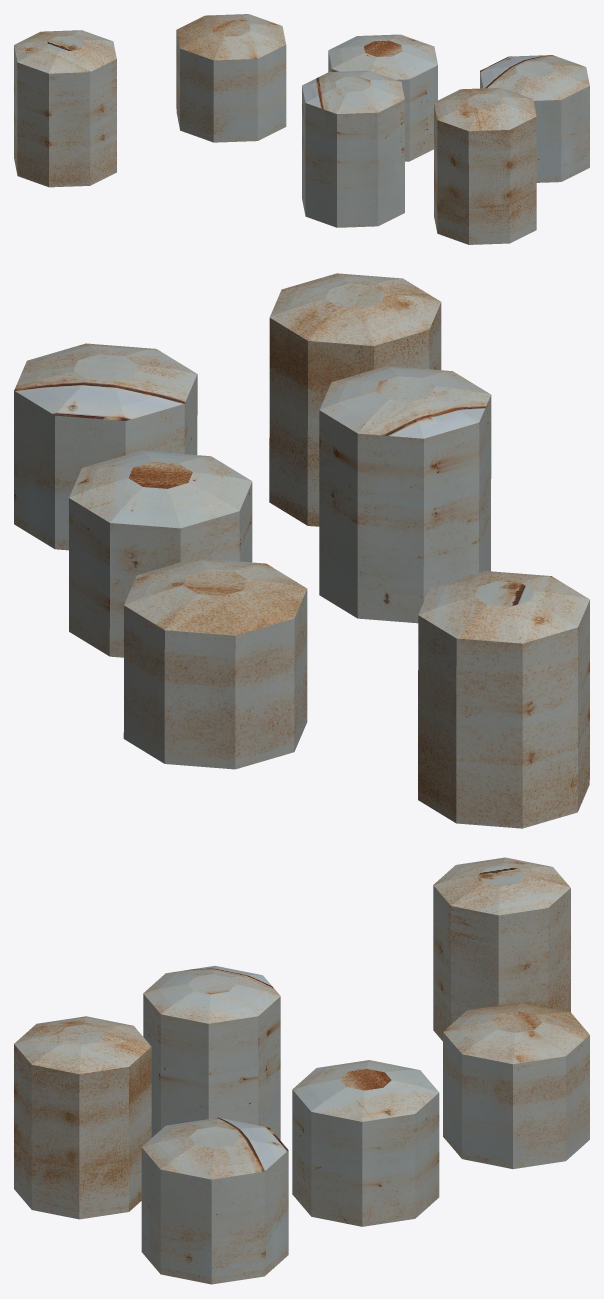
File: youguan_01_14.fbx
3 views of the same model, one above another, from view 1: azimuth 30°, elevation 25°; view 2: azimuth 150°, elevation 25°; view 3: azimuth 270°, elevation 25° (orthographic). The views are drawn at different scales.
Parts seen in each view (by area): view 1: Youguan_01_14; view 2: Youguan_01_14; view 3: Youguan_01_14.
Part boxes in pixels (<box>): Youguan_01_14: <box>14,14,589,244</box>; Youguan_01_14: <box>14,273,589,828</box>; Youguan_01_14: <box>14,857,589,1284</box>.
Size of the model in its own units: 6458 by 1663 by 5563.
